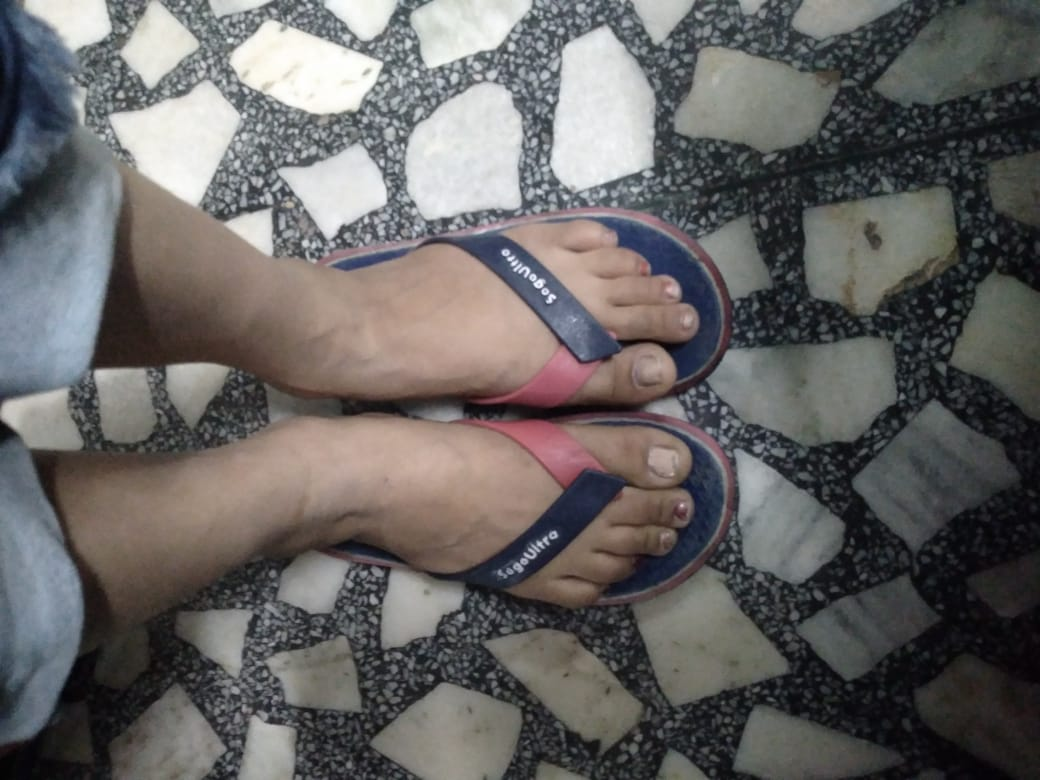Footwear: (256, 207, 741, 613), (306, 206, 737, 405)
